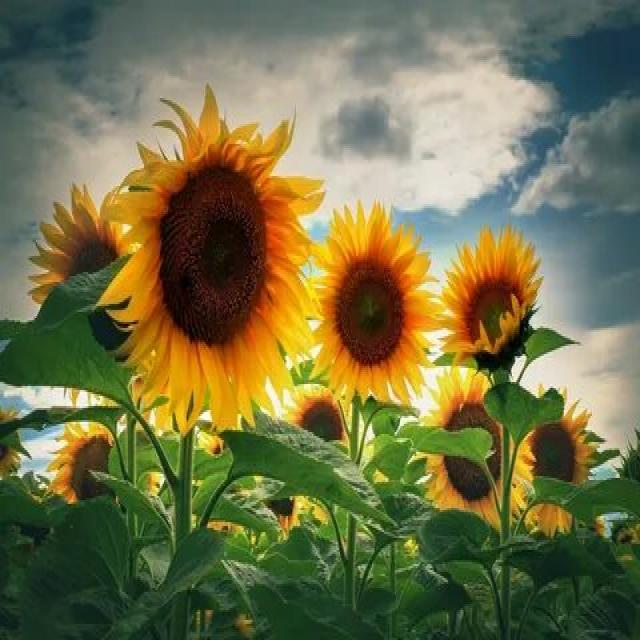sunflower: (105, 74, 316, 442), (300, 188, 437, 432), (422, 370, 550, 556), (432, 220, 545, 374)
